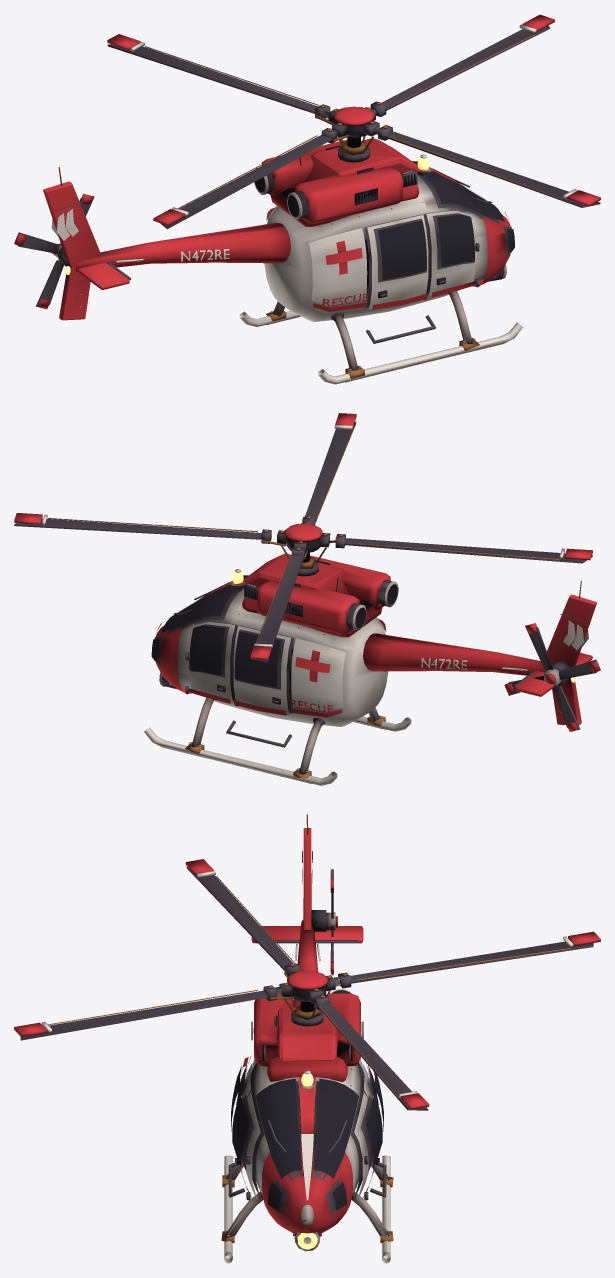
The picture shows the model from 3 angles, top to bottom: view 1: azimuth 30°, elevation 25°; view 2: azimuth 150°, elevation 25°; view 3: azimuth 270°, elevation 25°; orthographic projection. The views are drawn at different scales.
Visible parts, largest first — view 1: body_pal_survivorRed, body_pal_picketWhite, mainRotor_pal_asphalt, body_pal_asphalt, doorRescueR_pal_uiDark, body_pal_uiDark, doorRescueR_pal_picketWhite, mainRotor_pal_survivorRed, doorR_pal_uiDark, body_pal_sidewalk, doorR_pal_picketWhite, mainRotor_pal_woodWarm (+4 smaller); view 2: body_pal_survivorRed, body_pal_picketWhite, mainRotor_pal_asphalt, body_pal_asphalt, body_pal_uiDark, doorRescueL_pal_uiDark, doorRescueL_pal_picketWhite, mainRotor_pal_survivorRed, doorL_pal_uiDark, body_pal_sidewalk, tailRotor_pal_asphalt, doorL_pal_picketWhite (+2 smaller); view 3: body_pal_survivorRed, mainRotor_pal_asphalt, body_pal_uiDark, body_pal_picketWhite, body_pal_asphalt, mainRotor_pal_survivorRed, body_pal_sidewalk, mainRotor_pal_woodWarm, body_pal_woodWarm, doorL_pal_uiDark, doorR_pal_uiDark, doorL_pal_picketWhite (+1 smaller).
Part boxes in pixels (x1,y1,x2,y2): body_pal_survivorRed: (43, 138, 510, 320); body_pal_picketWhite: (51, 169, 522, 384); mainRotor_pal_asphalt: (107, 25, 600, 229); body_pal_asphalt: (55, 145, 511, 382); doorRescueR_pal_uiDark: (378, 220, 426, 298); body_pal_uiDark: (254, 145, 514, 252); doorRescueR_pal_picketWhite: (367, 215, 428, 309); mainRotor_pal_survivorRed: (107, 14, 600, 225); doorR_pal_uiDark: (436, 214, 474, 285); body_pal_sidewalk: (80, 137, 475, 370); doorR_pal_picketWhite: (426, 210, 475, 296); mainRotor_pal_woodWarm: (145, 34, 562, 208); body_pal_survivorRed: (156, 553, 596, 725); body_pal_picketWhite: (144, 583, 588, 785); mainRotor_pal_asphalt: (14, 421, 592, 663); body_pal_asphalt: (154, 560, 585, 783); body_pal_uiDark: (151, 560, 397, 661); doorRescueL_pal_uiDark: (234, 631, 280, 704); doorRescueL_pal_picketWhite: (233, 626, 290, 715); mainRotor_pal_survivorRed: (14, 413, 592, 659); doorL_pal_uiDark: (189, 625, 225, 692); body_pal_sidewalk: (189, 552, 561, 774); tailRotor_pal_asphalt: (508, 625, 596, 729); doorL_pal_picketWhite: (189, 622, 235, 703); body_pal_survivorRed: (240, 828, 374, 1233); mainRotor_pal_asphalt: (20, 866, 593, 1110); body_pal_uiDark: (253, 1015, 361, 1210); body_pal_picketWhite: (224, 868, 390, 1263); body_pal_asphalt: (228, 851, 386, 1214); mainRotor_pal_survivorRed: (14, 859, 600, 1109); body_pal_sidewalk: (225, 989, 389, 1237); mainRotor_pal_woodWarm: (47, 876, 570, 1098); body_pal_woodWarm: (221, 814, 393, 1243); doorL_pal_uiDark: (366, 1095, 382, 1166); doorR_pal_uiDark: (232, 1095, 248, 1166); doorL_pal_picketWhite: (354, 1091, 368, 1199).
Bounding box in the file's own units: 11.08 × 4.51 × 9.66.
